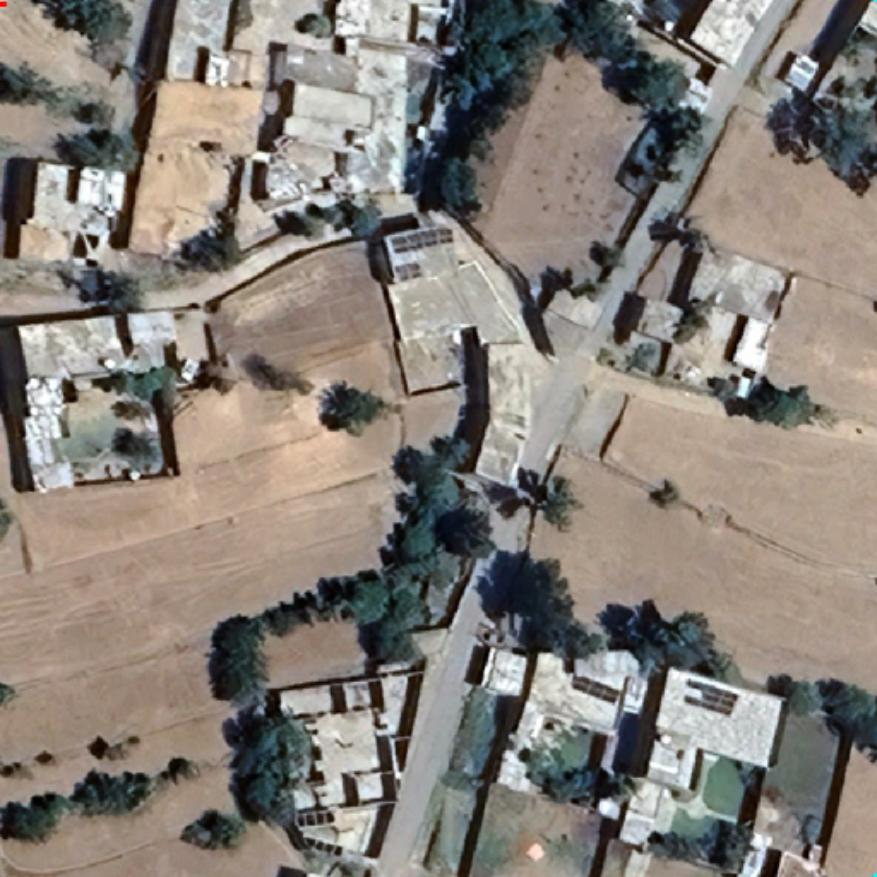Solarpanel: (384, 220, 458, 258), (680, 677, 744, 719), (566, 672, 626, 708), (388, 258, 426, 286)
